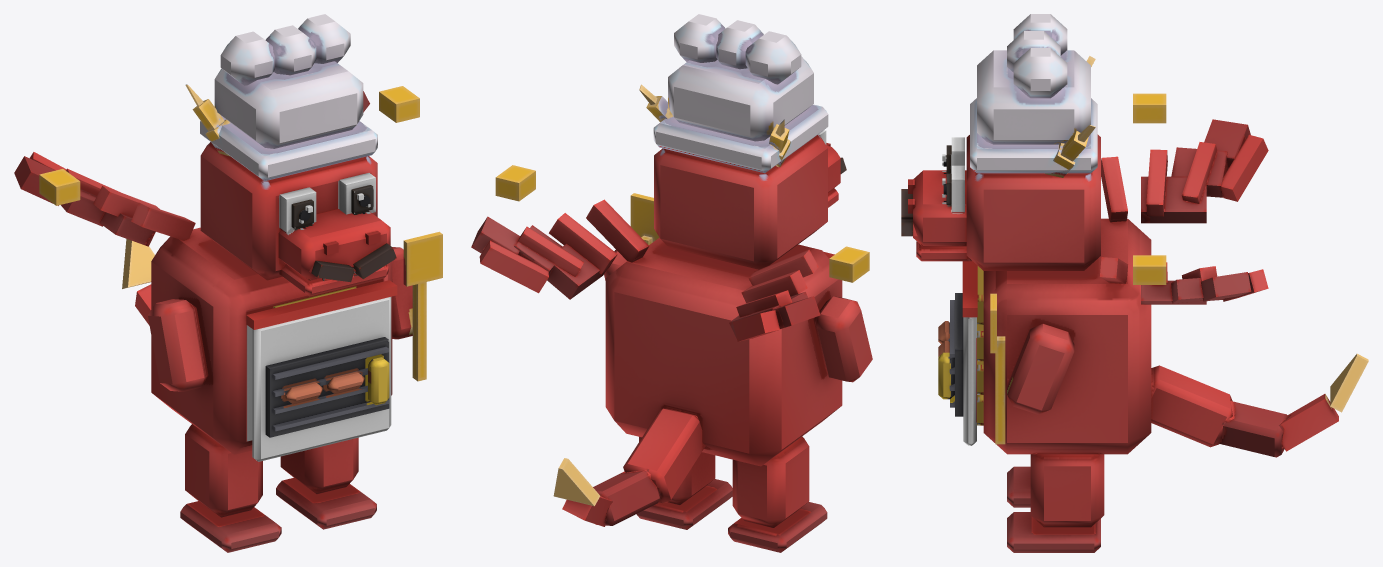
The model's file is DragonBarbecue_Rig.fbx.
3 renders of one model, left to right at view 1: azimuth 30°, elevation 25°; view 2: azimuth 150°, elevation 25°; view 3: azimuth 270°, elevation 25°, orthographic. The views are drawn at different scales.
Visible parts, largest first — view 1: Head, Body, LegR, WingR, LegL, ArmL, ArmR, Tail, Jaw, WingL; view 2: Head, Body, WingL, Tail, LegR, WingR, ArmR, LegL, ArmL; view 3: Head, Body, WingR, Tail, LegL, ArmL, WingL, LegR, Jaw.
Boxes of the visible parts, x1=… form: Head: x1=185, y1=14, x2=396, y2=282; Body: x1=151, y1=227, x2=397, y2=461; LegR: x1=180, y1=424, x2=281, y2=552; WingR: x1=14, y1=152, x2=195, y2=246; LegL: x1=276, y1=437, x2=376, y2=529; ArmL: x1=391, y1=231, x2=442, y2=381; ArmR: x1=148, y1=299, x2=208, y2=391; Tail: x1=122, y1=239, x2=154, y2=325; Jaw: x1=279, y1=264, x2=388, y2=296; WingL: x1=363, y1=86, x2=419, y2=122; Head: x1=639, y1=14, x2=846, y2=269; Body: x1=605, y1=237, x2=842, y2=466; WingL: x1=471, y1=165, x2=649, y2=299; Tail: x1=553, y1=408, x2=705, y2=526; LegR: x1=728, y1=436, x2=827, y2=552; WingR: x1=729, y1=246, x2=869, y2=341; ArmR: x1=813, y1=296, x2=872, y2=382; LegL: x1=636, y1=437, x2=732, y2=529; ArmL: x1=604, y1=193, x2=659, y2=280; Head: x1=901, y1=14, x2=1100, y2=270; Body: x1=938, y1=218, x2=1151, y2=454; WingR: x1=1101, y1=93, x2=1268, y2=223; Tail: x1=1151, y1=353, x2=1368, y2=457; LegL: x1=1007, y1=454, x2=1104, y2=552; ArmL: x1=990, y1=293, x2=1074, y2=444; WingL: x1=1100, y1=255, x2=1268, y2=304; LegR: x1=1007, y1=466, x2=1030, y2=507; Jaw: x1=916, y1=241, x2=971, y2=261.
Bounding box in the file's own units: 4.6 × 6 × 5.25.
Materials: 1 (1 with a texture image).
